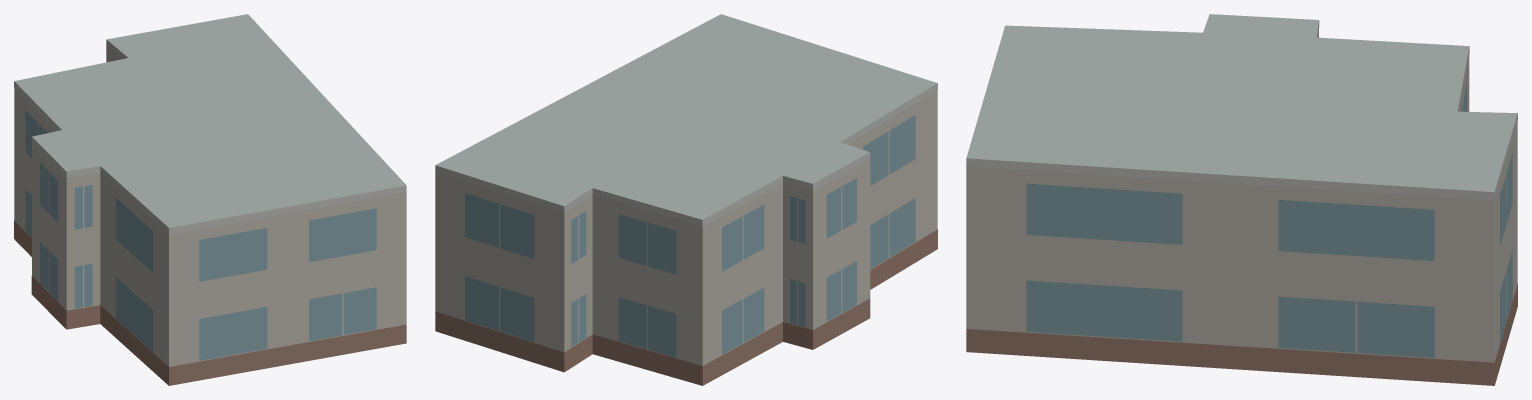
Rendered from survey-upis-32831597.glb.
3 renders of one model, left to right at view 1: azimuth 30°, elevation 25°; view 2: azimuth 150°, elevation 25°; view 3: azimuth 270°, elevation 25°, orthographic. The views are drawn at different scales.
Parts seen in each view (by area): view 1: survey-upis-32831597.tmp; view 2: survey-upis-32831597.tmp; view 3: survey-upis-32831597.tmp.
Part boxes in pixels (x1,y1,x2,y2): survey-upis-32831597.tmp: [14, 14, 406, 385]; survey-upis-32831597.tmp: [435, 14, 937, 385]; survey-upis-32831597.tmp: [966, 14, 1517, 385].
Bounding box in the file's own units: 12.04 × 6.1 × 15.75.
